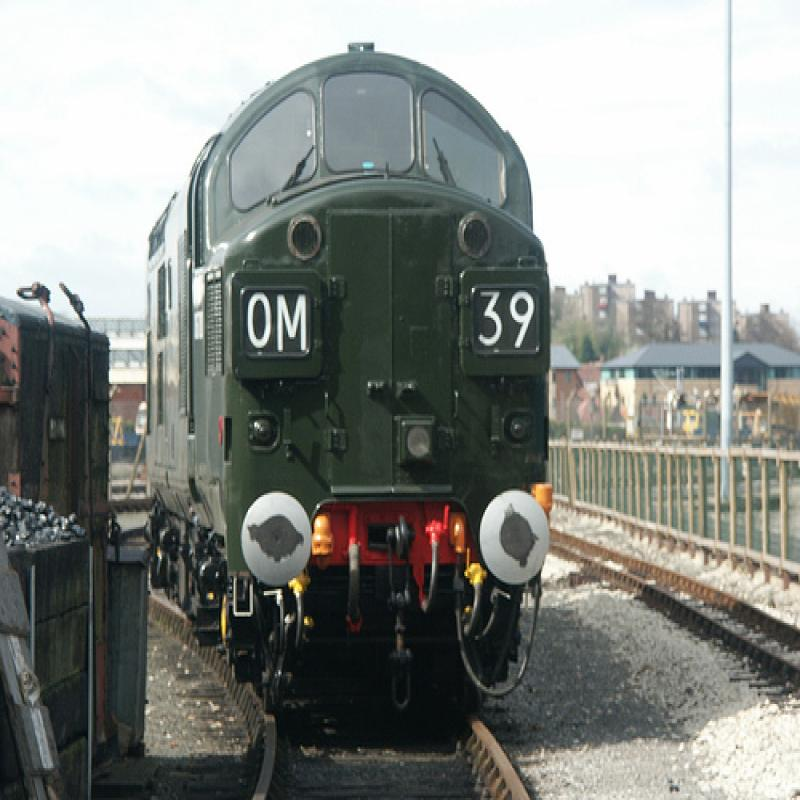train: (142, 38, 553, 727)
